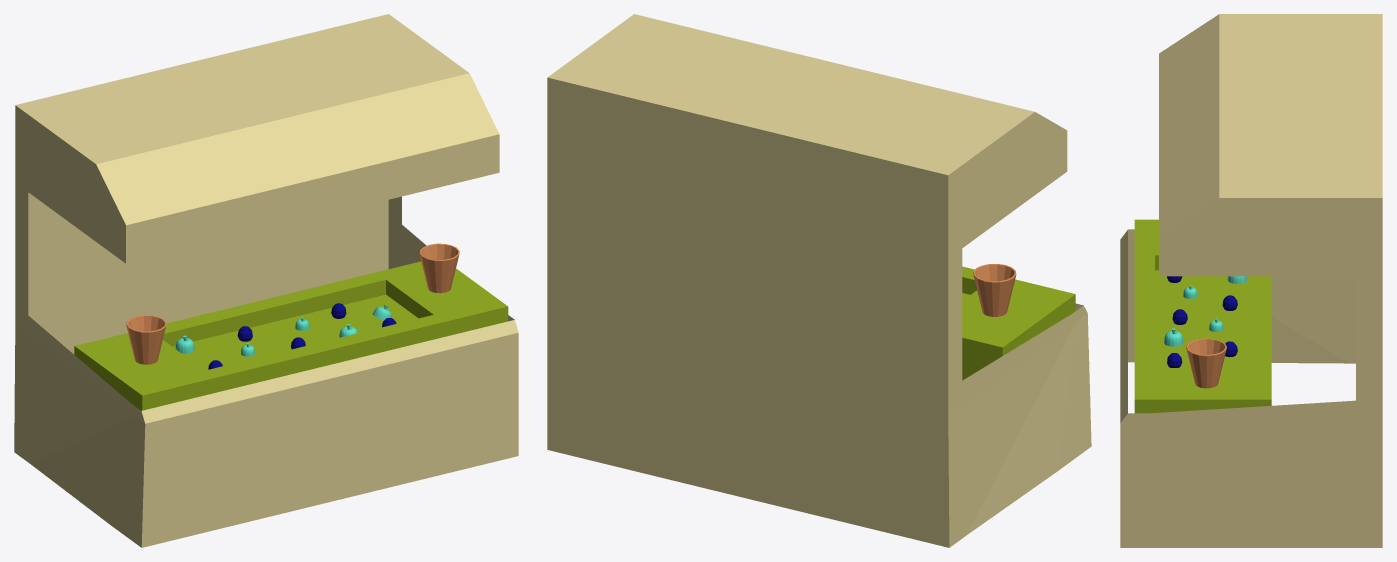
Rendered from manzanas.fbx.
The picture shows the model from 3 angles, left to right: view 1: azimuth 30°, elevation 25°; view 2: azimuth 150°, elevation 25°; view 3: azimuth 270°, elevation 25°; orthographic projection. The views are drawn at different scales.
Visible parts, largest first — view 1: Puesto_Manzanas; view 2: Puesto_Manzanas; view 3: Puesto_Manzanas.
Part boxes in pixels (x1,y1,x2,y2): Puesto_Manzanas: [14, 14, 518, 547]; Puesto_Manzanas: [547, 14, 1091, 547]; Puesto_Manzanas: [1120, 14, 1382, 547].
Size of the model in its own units: 83.33 by 73.27 by 49.76.
